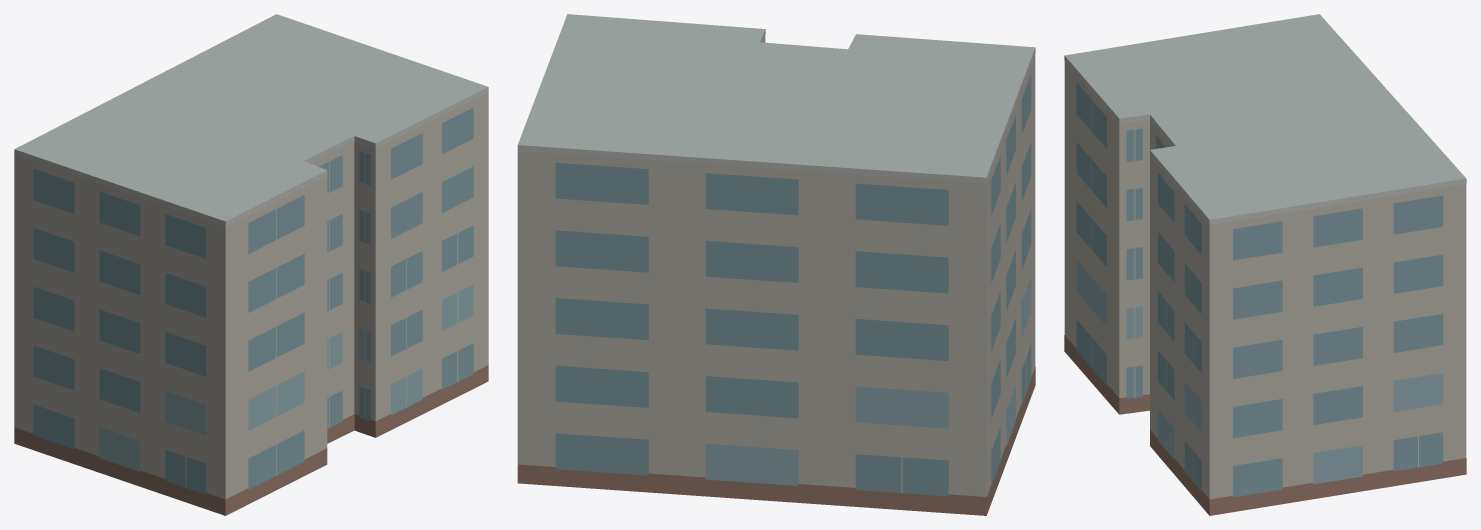
The model's file is survey-upis-32865224.glb.
3 renders of one model, left to right at view 1: azimuth 30°, elevation 25°; view 2: azimuth 150°, elevation 25°; view 3: azimuth 270°, elevation 25°, orthographic. The views are drawn at different scales.
Visible parts, largest first — view 1: survey-upis-32865224.tmp; view 2: survey-upis-32865224.tmp; view 3: survey-upis-32865224.tmp.
Part boxes in pixels (x1,y1,x2,y2): survey-upis-32865224.tmp: (14,14,488,515); survey-upis-32865224.tmp: (517,14,1035,515); survey-upis-32865224.tmp: (1064,14,1466,515).
Bounding box in the file's own units: 20.29 × 13.6 × 16.74.
